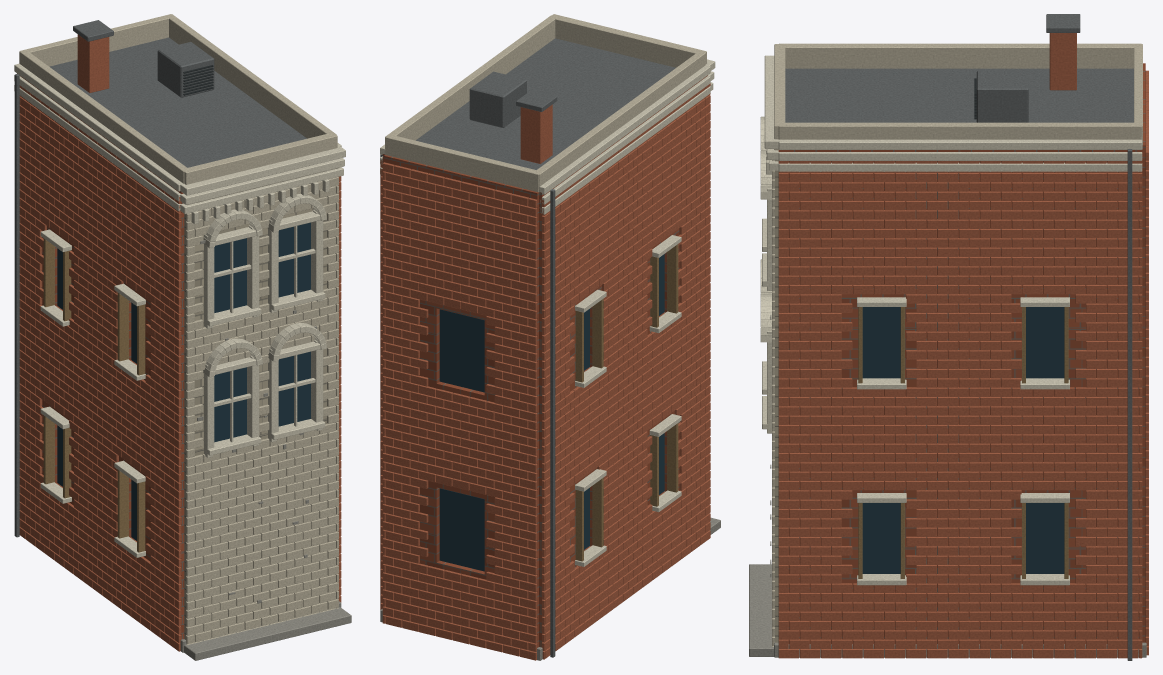
Rendered from WRHS4_lod0.glb.
3 views of the same model, side by side, from view 1: azimuth 30°, elevation 25°; view 2: azimuth 150°, elevation 25°; view 3: azimuth 270°, elevation 25° (orthographic). The views are drawn at different scales.
Visible parts, largest first — view 1: WRHS4_LOD0; view 2: WRHS4_LOD0; view 3: WRHS4_LOD0.
Boxes of the visible parts, x1,y1,x2,y2 form: WRHS4_LOD0: [14, 14, 351, 660]; WRHS4_LOD0: [380, 14, 720, 660]; WRHS4_LOD0: [749, 14, 1148, 660].
Size of the model in its own units: 3.71 by 10.45 by 6.6.
Materials: 15 (13 with a texture image).
